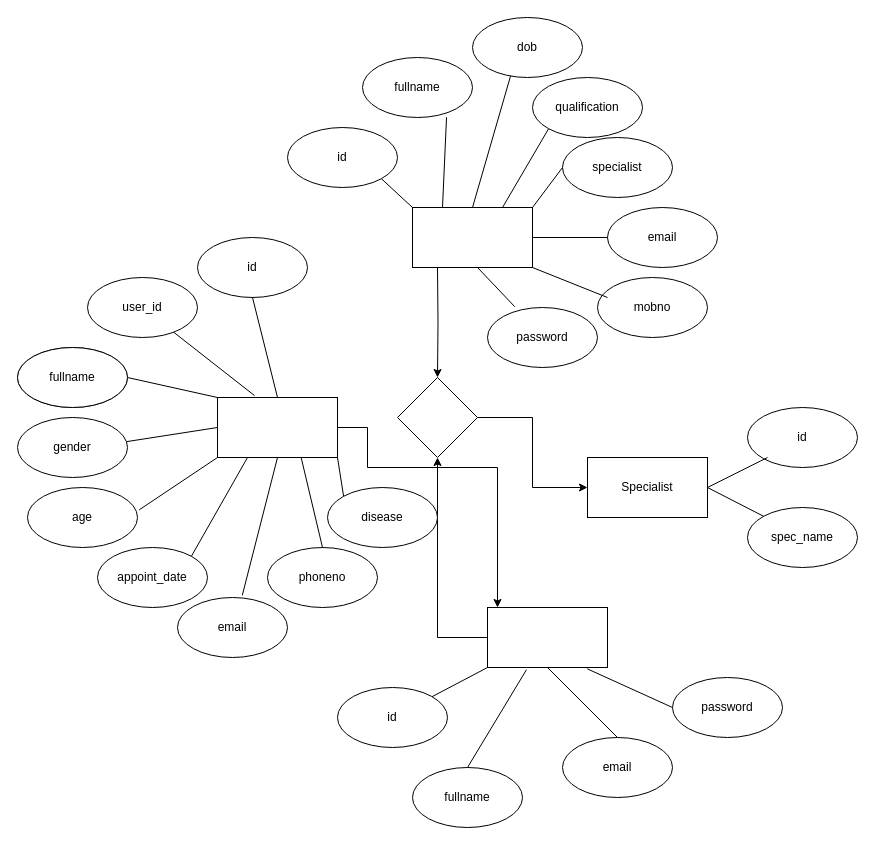
The diagram is 875 pixels wide and 845 high, and some of its shapes have lost their labels. Each missing label, with the centre of its shape:
"Appointments" goes at point (277, 427).
"Doctor" goes at point (472, 237).
"has" goes at point (437, 417).
"User" goes at point (547, 637).
